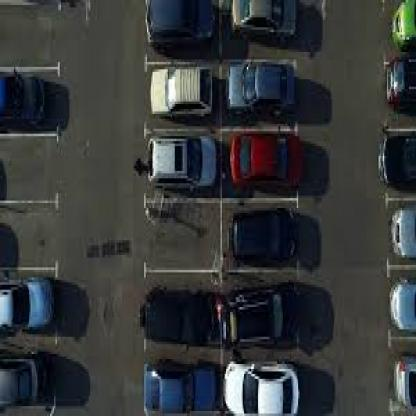Car: (141, 287, 226, 349), (226, 131, 305, 193), (148, 0, 226, 62), (226, 353, 302, 416), (230, 56, 302, 120), (227, 282, 294, 349), (142, 357, 223, 412), (147, 137, 221, 197), (226, 211, 298, 271), (147, 63, 215, 120), (0, 347, 56, 409), (228, 0, 308, 41), (0, 278, 54, 337), (0, 74, 52, 130), (377, 121, 416, 191), (382, 52, 416, 116), (384, 200, 416, 263), (389, 349, 416, 416), (389, 272, 416, 334), (386, 0, 416, 45)
Empty: (148, 207, 221, 267), (0, 134, 67, 198), (1, 3, 70, 64), (2, 206, 64, 266)
